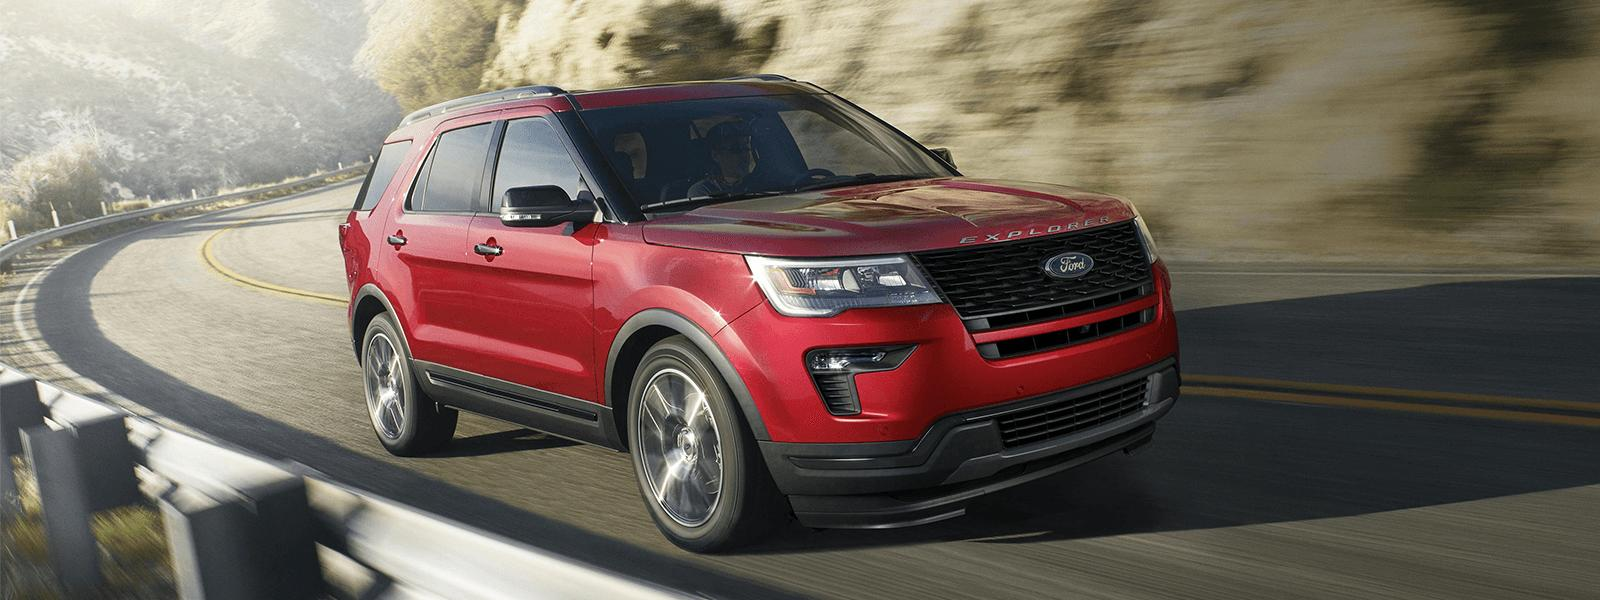Ford Explorer: (341, 76, 1180, 556)
